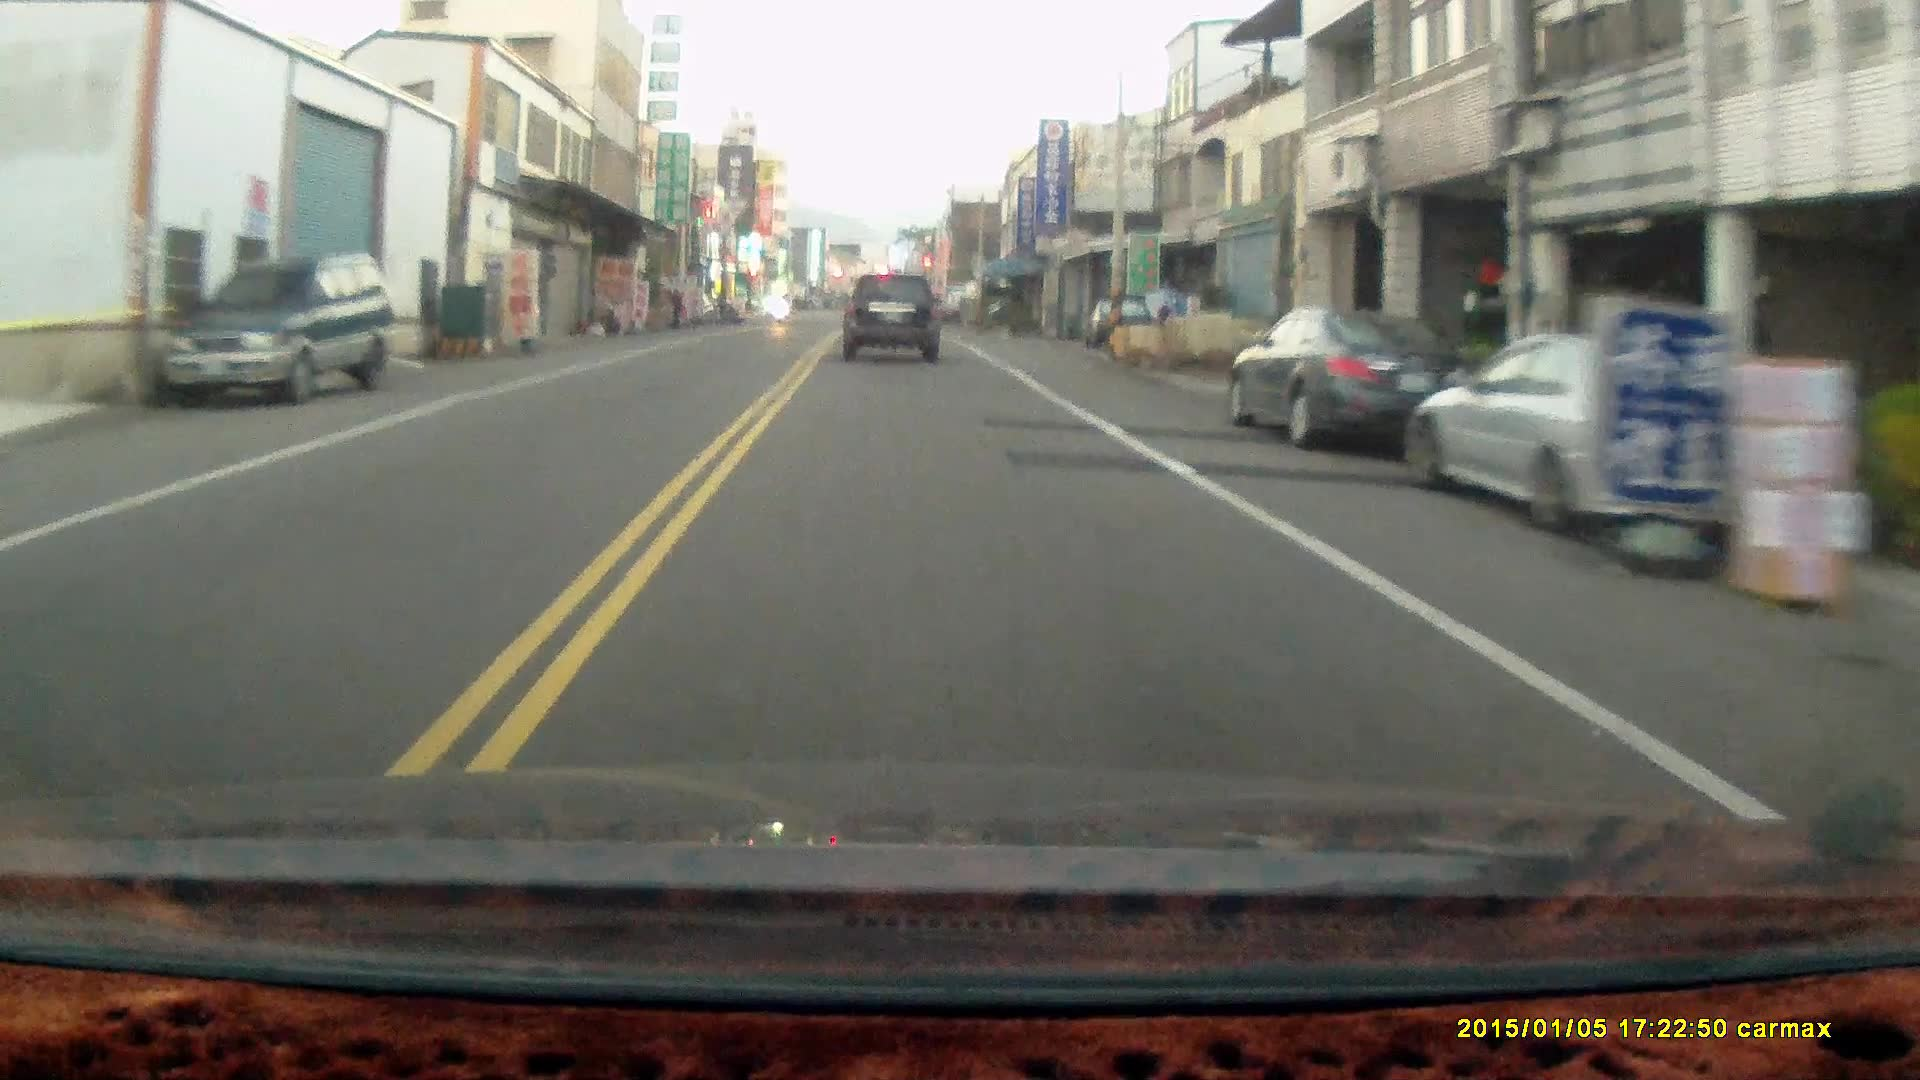pedestrian: (665, 284, 685, 332)
vehicle: (1414, 326, 1838, 525), (1226, 303, 1488, 449), (163, 254, 394, 408), (843, 272, 944, 364)
